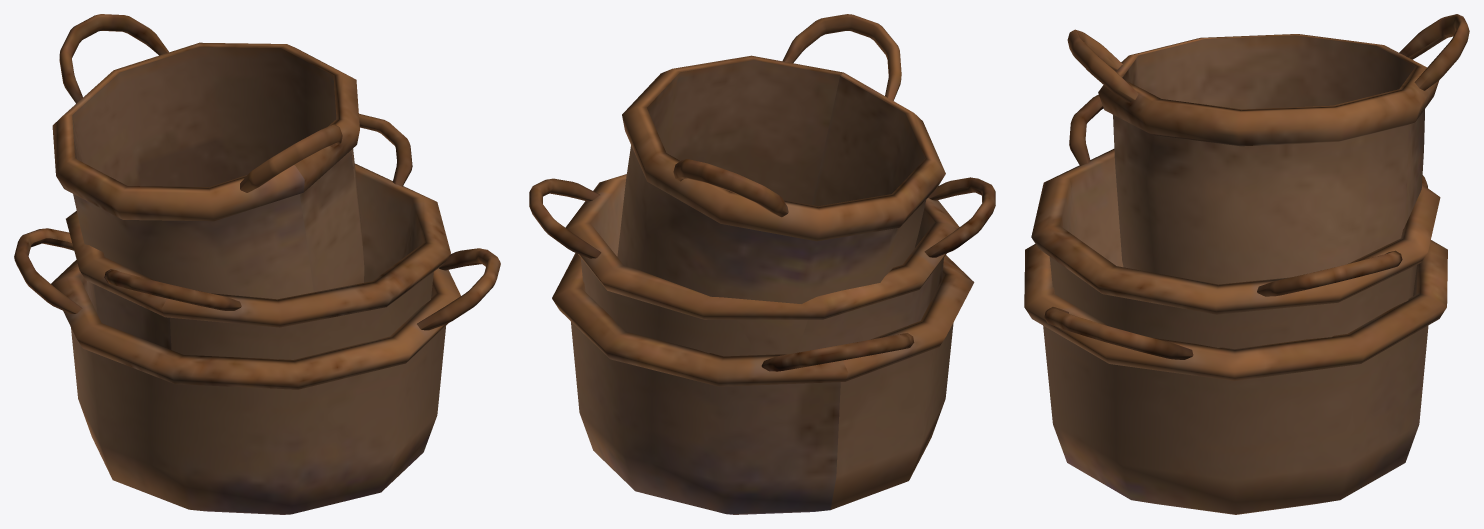
File: a stack of troughs.fbx
The picture shows the model from 3 angles, left to right: view 1: azimuth 30°, elevation 25°; view 2: azimuth 150°, elevation 25°; view 3: azimuth 270°, elevation 25°; orthographic projection. The views are drawn at different scales.
Parts seen in each view (by area): view 1: Strove.003; view 2: Strove.003; view 3: Strove.003.
Boxes of the visible parts, left/top/right/bottom form: Strove.003: left=14, top=14, right=500, bottom=514; Strove.003: left=529, top=14, right=995, bottom=514; Strove.003: left=1024, top=14, right=1469, bottom=514.
Bounding box in the file's own units: 36.34 × 36.56 × 35.21.
1 material, 1 textured.
